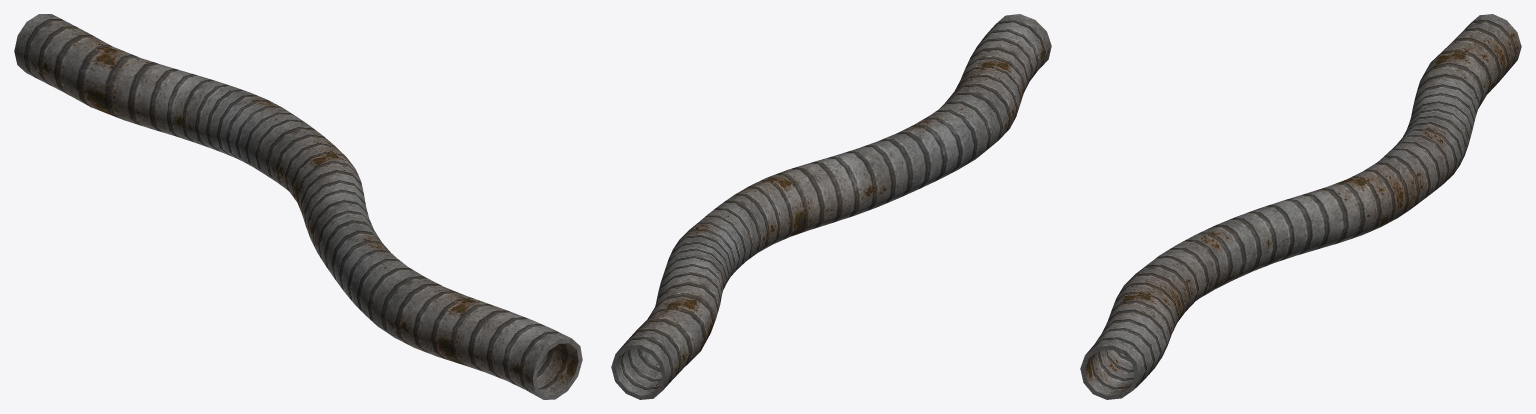
The model's file is pipe_e_2.obj.
3 renders of one model, left to right at view 1: azimuth 30°, elevation 25°; view 2: azimuth 150°, elevation 25°; view 3: azimuth 330°, elevation 25°, orthographic. The views are drawn at different scales.
Visible parts, largest first — view 1: pipe_e_2; view 2: pipe_e_2; view 3: pipe_e_2.
Boxes of the visible parts, bbox=[...] form: pipe_e_2: bbox=[14, 14, 582, 399]; pipe_e_2: bbox=[611, 14, 1051, 399]; pipe_e_2: bbox=[1080, 14, 1521, 399].
Bounding box in the file's own units: 0.5889 × 0.2502 × 3.61.
